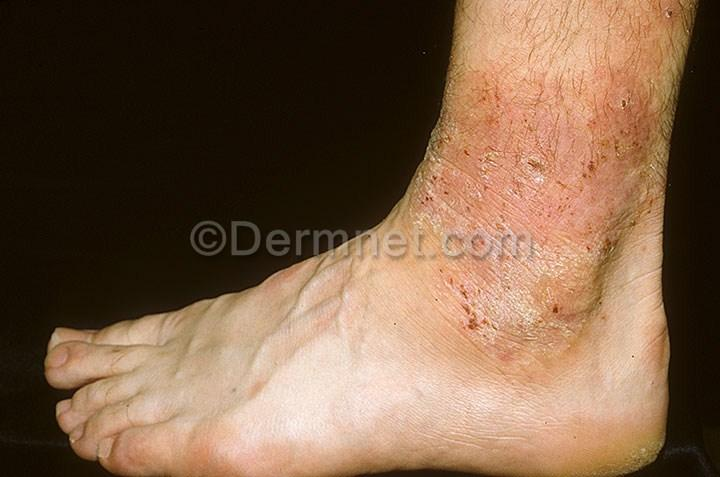Eczema: (515, 56, 614, 141), (445, 94, 541, 174), (460, 227, 546, 308), (421, 294, 501, 380), (548, 272, 624, 356), (534, 125, 601, 210), (598, 119, 663, 204), (398, 207, 468, 284), (446, 40, 526, 106), (483, 310, 562, 372), (561, 210, 632, 274), (414, 162, 494, 214), (489, 170, 552, 236), (601, 60, 666, 123), (632, 0, 692, 58), (421, 126, 449, 168)
